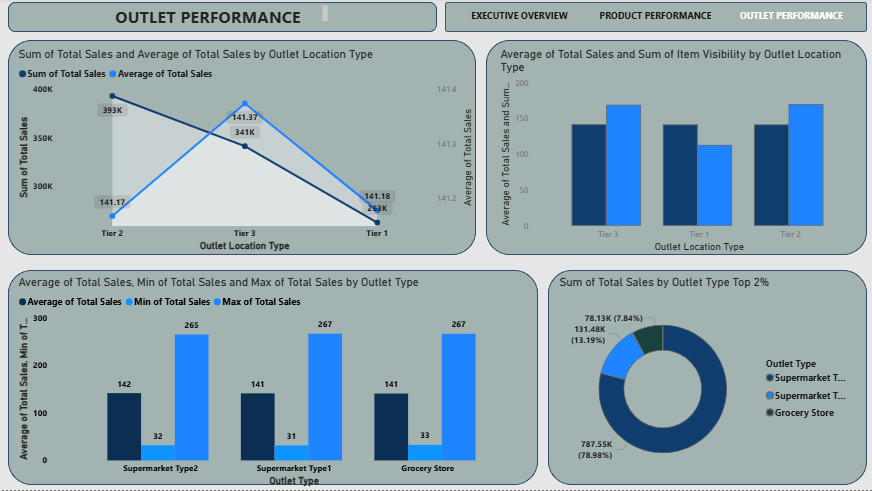

What the dashboard file says about the page in this screenshot:
{"tool":"powerbi","page":{"name":"OUTLET PERFORMANCE","canvas":[1280,720],"ordinal":2},"visuals":[{"type":"shape","box":[11.7,5.9,627.8,43.9],"z":0},{"type":"shape","box":[651.2,5.9,617.6,43.9],"z":1000},{"type":"shape","box":[11.7,61.5,684.9,314.6],"z":2000},{"type":"shape","box":[711.2,61.5,557.6,314.6],"z":3000},{"type":"shape","box":[11.7,398,775.6,314.6],"z":4000},{"type":"shape","box":[802,398,466.8,314.6],"z":5000},{"type":"clusteredColumnChart","fields":{"Category":["smart_bazaar.Outlet Type"],"Y":["Avg(smart_bazaar.Total Sales)","Min(smart_bazaar.Total Sales)","Max(smart_bazaar.Total Sales)"]},"box":[22,405.4,765.4,314.6],"z":6000},{"type":"donutChart","title":"Sum of Total Sales by Outlet Type Top 2%","fields":{"Category":["smart_bazaar.Outlet Type"],"Y":["Sum(smart_bazaar.Total Sales)"]},"box":[813.7,405.4,443.4,314.6],"z":7000},{"type":"lineChart","fields":{"Category":["smart_bazaar.Outlet Location Type"],"Y":["Sum(smart_bazaar.Total Sales)"],"Y2":["Avg(smart_bazaar.Total Sales)"]},"box":[22,71.7,674.6,304.4],"z":8000},{"type":"clusteredColumnChart","fields":{"Category":["smart_bazaar.Outlet Location Type"],"Y":["Avg(smart_bazaar.Total Sales)","Sum(smart_bazaar.Item Visibility)"]},"box":[727.3,71.7,541.5,304.4],"z":9000},{"type":"pageNavigator","box":[665.9,0,589.8,49.8],"z":10000},{"type":"textbox","box":[93.7,5.9,390.7,36.6],"z":11000}]}

Visuals, with their boxes in screenshot pixels (x1, y1, x2, y2), scaled from the page's 1280x720 canvas onto the 872x491 screenshot:
shape: select_region(8, 4, 436, 34)
shape: select_region(444, 4, 864, 34)
shape: select_region(8, 42, 475, 256)
shape: select_region(485, 42, 864, 256)
shape: select_region(8, 271, 536, 486)
shape: select_region(546, 271, 864, 486)
clusteredColumnChart - smart_bazaar.Outlet Type x Avg(smart_bazaar.Total Sales): select_region(15, 276, 536, 490)
"Sum of Total Sales by Outlet Type Top 2%" donutChart: select_region(554, 276, 856, 490)
lineChart - smart_bazaar.Outlet Location Type x Sum(smart_bazaar.Total Sales): select_region(15, 49, 475, 256)
clusteredColumnChart - smart_bazaar.Outlet Location Type x Avg(smart_bazaar.Total Sales): select_region(495, 49, 864, 256)
pageNavigator: select_region(454, 0, 855, 34)
textbox: select_region(64, 4, 330, 29)
